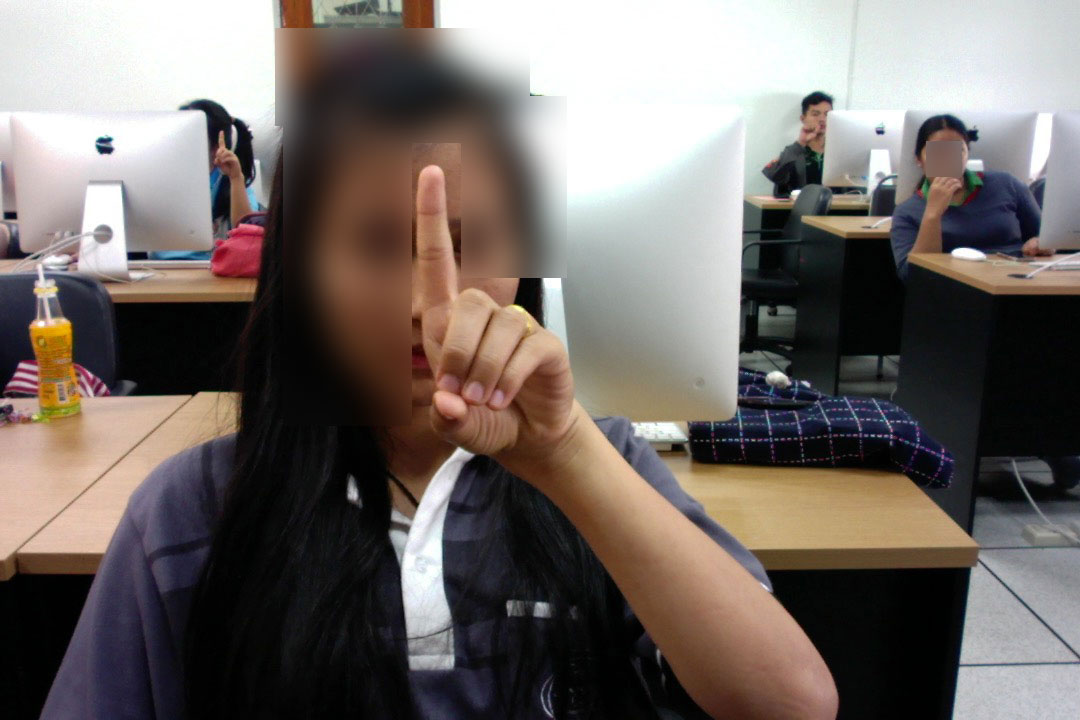dor: (406, 152, 578, 492)
